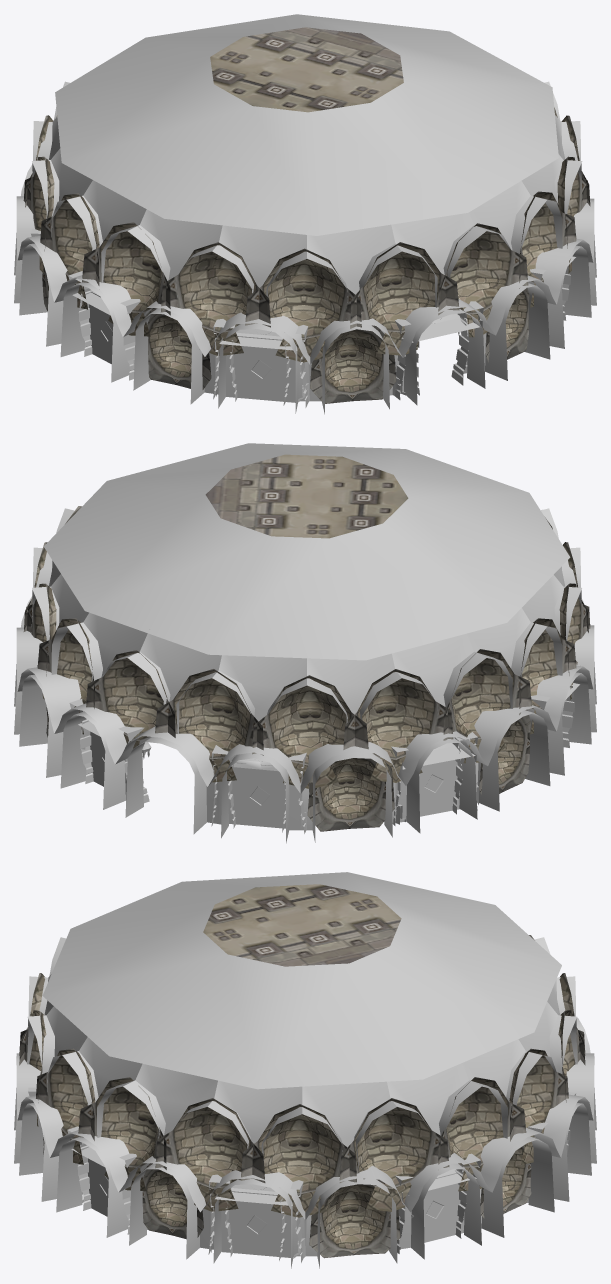
Rendered from DN_tushuguan_dating.FBX.
The picture shows the model from 3 angles, top to bottom: view 1: azimuth 30°, elevation 25°; view 2: azimuth 150°, elevation 25°; view 3: azimuth 270°, elevation 25°; orthographic projection.
Parts seen in each view (by area): view 1: DN_tushuguan_dating01, DN_tushuguan_dating02; view 2: DN_tushuguan_dating01, DN_tushuguan_dating02; view 3: DN_tushuguan_dating01, DN_tushuguan_dating02.
Part boxes in pixels (box(x1,y1,x2,y2)): DN_tushuguan_dating01: box(14, 14, 596, 414); DN_tushuguan_dating02: box(23, 27, 590, 403); DN_tushuguan_dating01: box(14, 443, 596, 843); DN_tushuguan_dating02: box(23, 454, 590, 831); DN_tushuguan_dating01: box(14, 872, 596, 1268); DN_tushuguan_dating02: box(19, 884, 585, 1258).
Size of the model in its own units: 5488 by 2326 by 5501.
